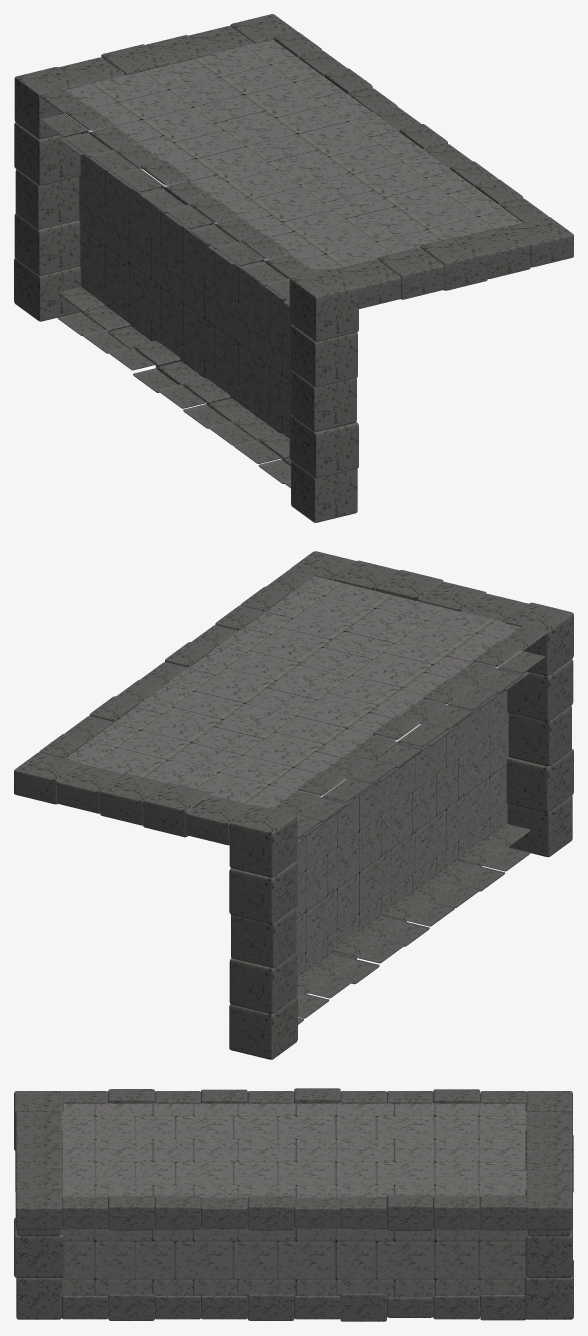
Rendered from temploestructura.fbx.
3 renders of one model, top to bottom at view 1: azimuth 30°, elevation 25°; view 2: azimuth 150°, elevation 25°; view 3: azimuth 270°, elevation 25°, orthographic. The views are drawn at different scales.
Parts seen in each view (by area): view 1: pCube2, pCube10, pCube4, pCube8, pCube5, pCube1, pCube6, pCube7, pCube9, pCube3, pCube11, pCube16 (+36 smaller); view 2: pCube2, pCube11, pCube9, pCube5, pCube4, pCube3, pCube7, pCube6, pCube10, pCube8, pCube1, pCube15 (+35 smaller); view 3: pCube2, pCube4, pCube3, pCube5, pCube21, pCube20, pCube1, pCube31, pCube28, pCube27, pCube23, pCube25 (+36 smaller).
Part boxes in pixels (x1,y1,x2,y2): pCube2: (66, 39, 522, 458); pCube10: (289, 268, 358, 341); pCube4: (289, 414, 358, 478); pCube8: (290, 325, 357, 387); pCube5: (14, 213, 80, 275); pCube1: (291, 461, 357, 522); pCube6: (291, 371, 356, 431); pCube7: (15, 169, 79, 229); pCube9: (14, 122, 80, 185); pCube3: (14, 258, 81, 321); pCube11: (14, 67, 81, 139); pCube16: (420, 235, 487, 290); pCube2: (63, 576, 521, 976); pCube11: (229, 805, 297, 877); pCube9: (229, 861, 297, 923); pCube5: (229, 952, 297, 1014); pCube4: (506, 749, 573, 812); pCube3: (229, 997, 297, 1059); pCube7: (231, 907, 296, 968); pCube6: (508, 706, 571, 766); pCube10: (505, 602, 573, 676); pCube8: (507, 659, 573, 721); pCube1: (507, 796, 572, 856); pCube15: (143, 782, 210, 837); pCube2: (60, 1093, 527, 1316); pCube4: (14, 1217, 64, 1277); pCube3: (524, 1260, 573, 1319); pCube5: (525, 1228, 572, 1277); pCube21: (525, 1188, 572, 1229); pCube20: (15, 1189, 62, 1229); pCube1: (16, 1278, 61, 1319); pCube31: (386, 1195, 433, 1230); pCube28: (480, 1195, 526, 1230); pCube27: (247, 1196, 294, 1230); pCube23: (108, 1196, 154, 1230); pCube25: (154, 1196, 201, 1229).
Bounding box in the file's own units: 21.13 × 18.09 × 42.62.
Materials: 1 (1 with a texture image).
